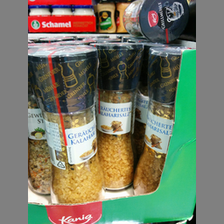spices: (28, 44, 103, 205), (133, 47, 185, 195), (93, 41, 143, 193)
